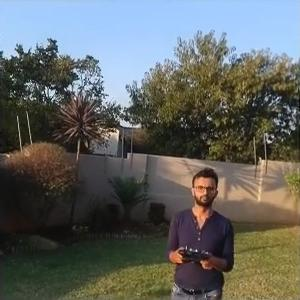follow: (160, 159, 239, 298)
